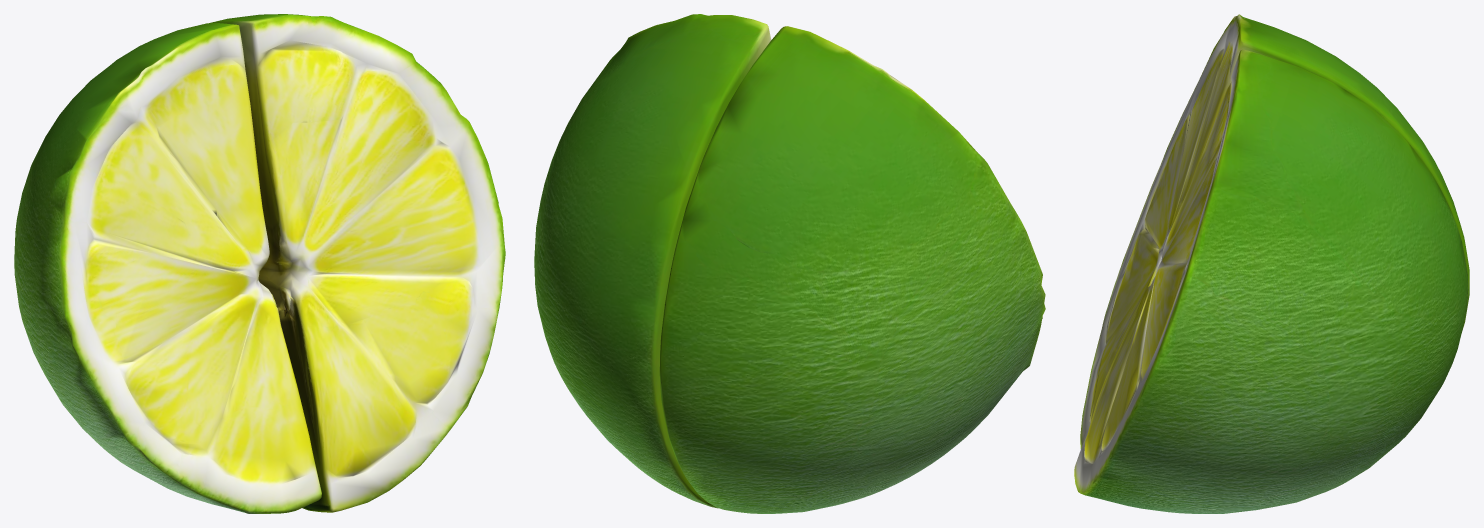
Rendered from f-lime-half.glb.
3 views of the same model, side by side, from view 1: azimuth 30°, elevation 25°; view 2: azimuth 150°, elevation 25°; view 3: azimuth 270°, elevation 25° (orthographic). The views are drawn at different scales.
Visible parts, largest first — view 1: node_0; view 2: node_0; view 3: node_0.
Part boxes in pixels (left/top/right/bottom): node_0: left=14, top=14, right=505, bottom=513; node_0: left=534, top=14, right=1045, bottom=513; node_0: left=1074, top=14, right=1469, bottom=513.
Bounding box in the file's own units: 0.992 × 0.9893 × 0.7916.
Materials: 1 (1 with a texture image).
